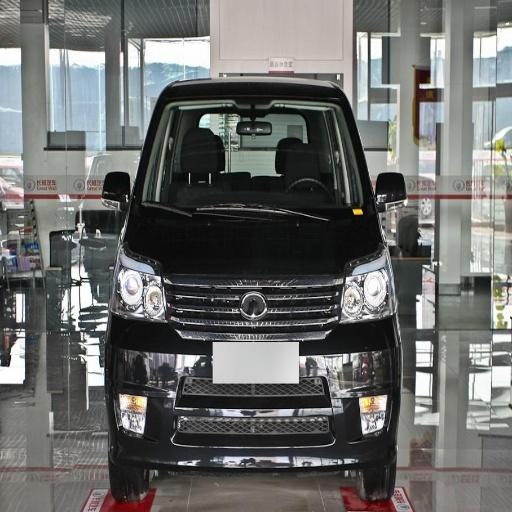front_bumper: (113, 272, 396, 498)
front_right_light: (117, 255, 166, 321)
hood: (125, 193, 384, 315)
left_mirror: (376, 172, 409, 211)
